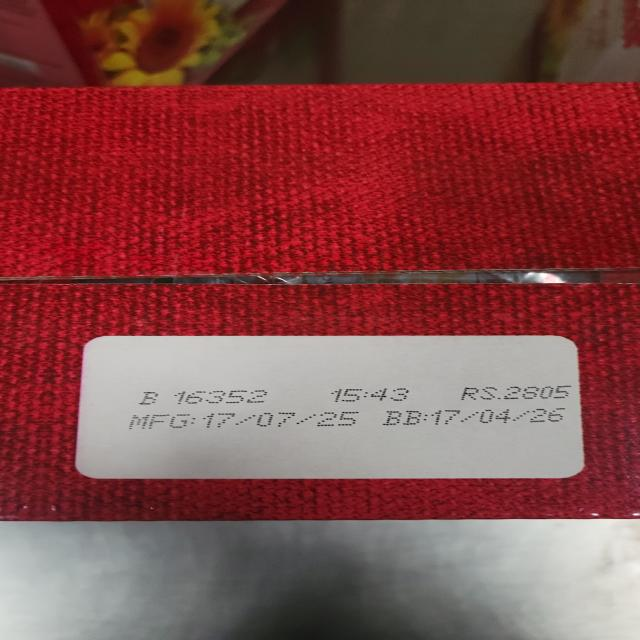BB: (384, 408, 570, 427)
Batch: (136, 390, 272, 405)
MFG: (131, 410, 361, 429)
RS: (460, 385, 576, 400)
TimeStamp: (330, 388, 416, 403)
